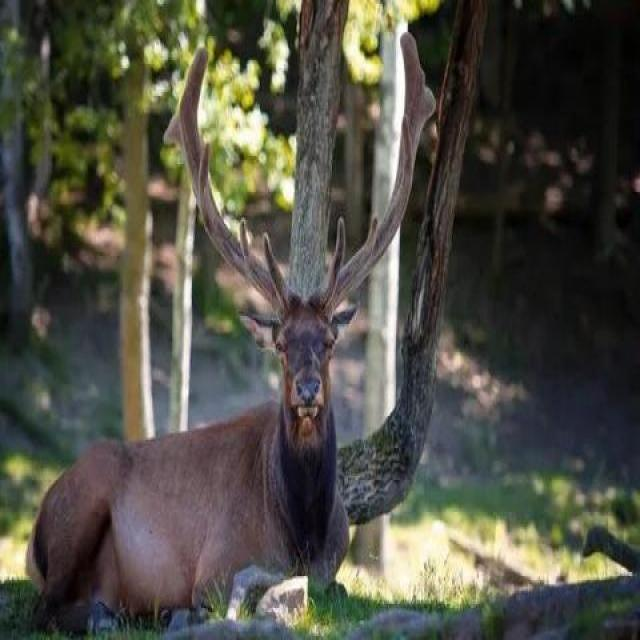deer: (28, 169, 338, 615)
